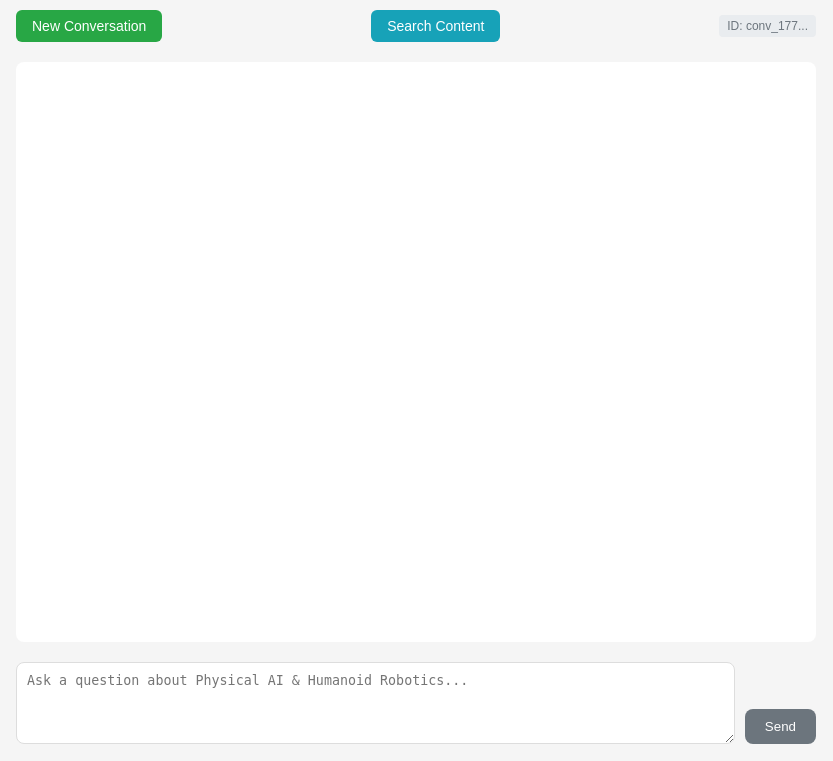
Scenario: ChatInterface Component › allows user to type and send a message
(page scrolled)
// Type a message
Type "Hello, world!" into the text box with placeholder "Ask a question about Physical AI & Humanoid Robotics..." at (375,703), box [16, 662, 735, 744]
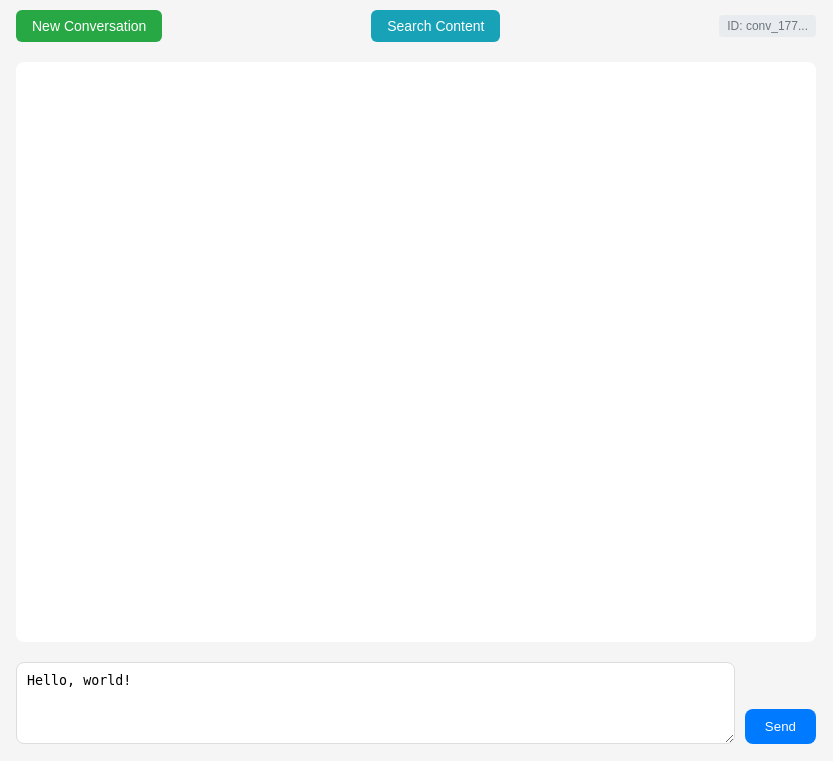
// Click send button
Click the button "Send" at (780,726), box [745, 709, 816, 744]
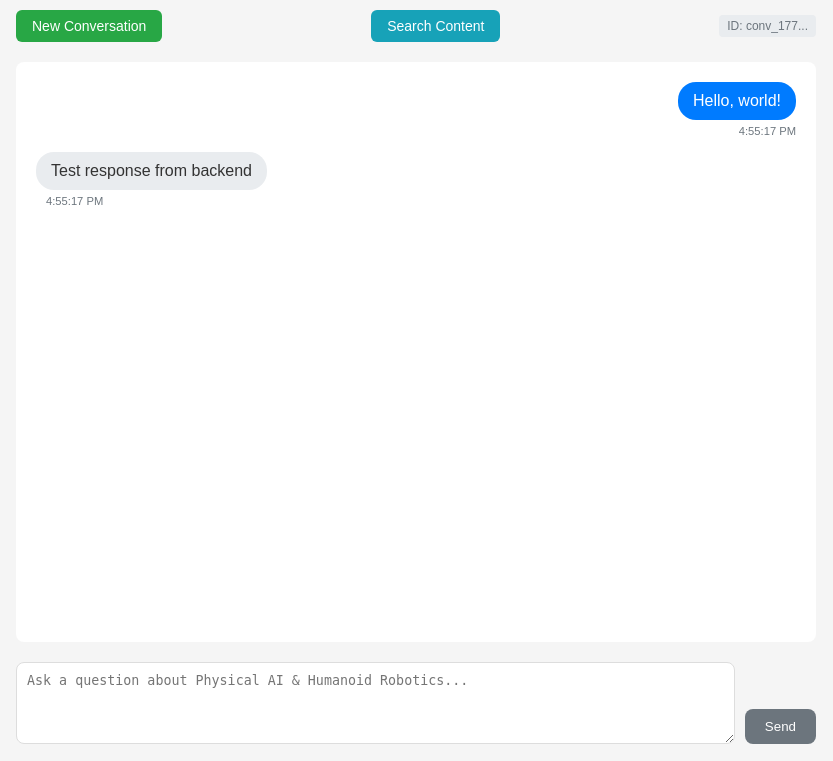
Expected: the text "Hello, world!" is shown, [678, 82, 796, 120]
